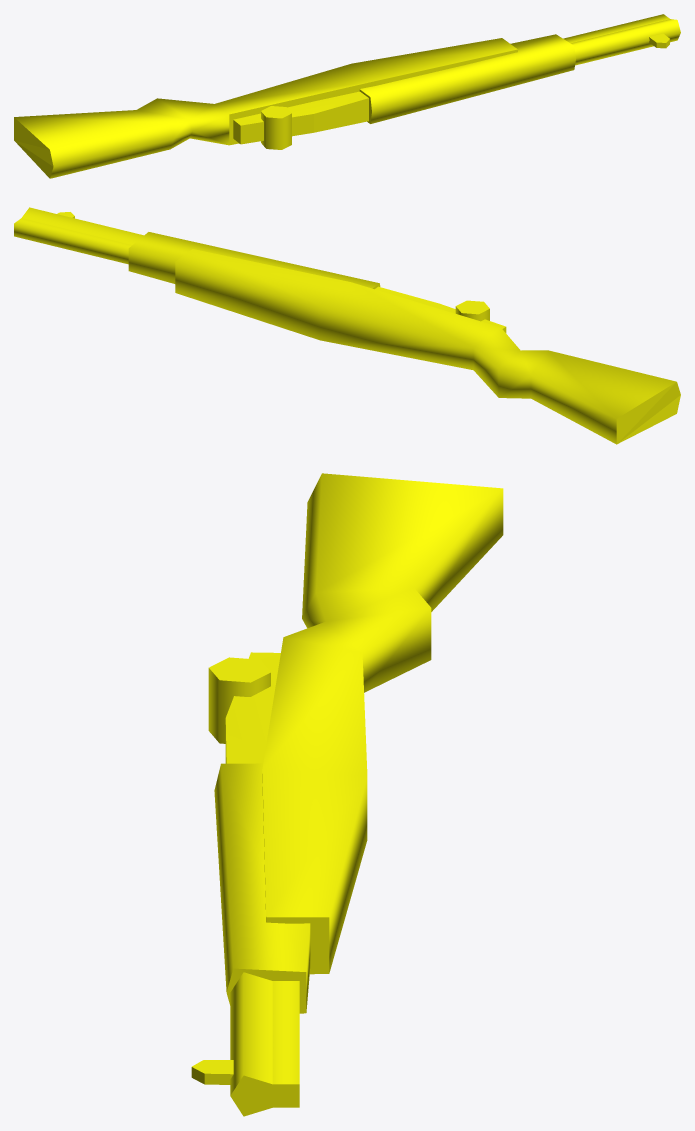
The model's file is weapon_garandM1.glb.
3 renders of one model, top to bottom at view 1: azimuth 30°, elevation 25°; view 2: azimuth 150°, elevation 25°; view 3: azimuth 270°, elevation 25°, orthographic. The views are drawn at different scales.
Visible parts, largest first — view 1: weapon_garandM1; view 2: weapon_garandM1; view 3: weapon_garandM1.
Part boxes in pixels (bbox=[...]): weapon_garandM1: bbox=[14, 14, 680, 178]; weapon_garandM1: bbox=[14, 207, 680, 444]; weapon_garandM1: bbox=[191, 473, 503, 1116].
Bounding box in the file's own units: 1.93 × 0.1106 × 0.4283.
1 material, 1 textured.
